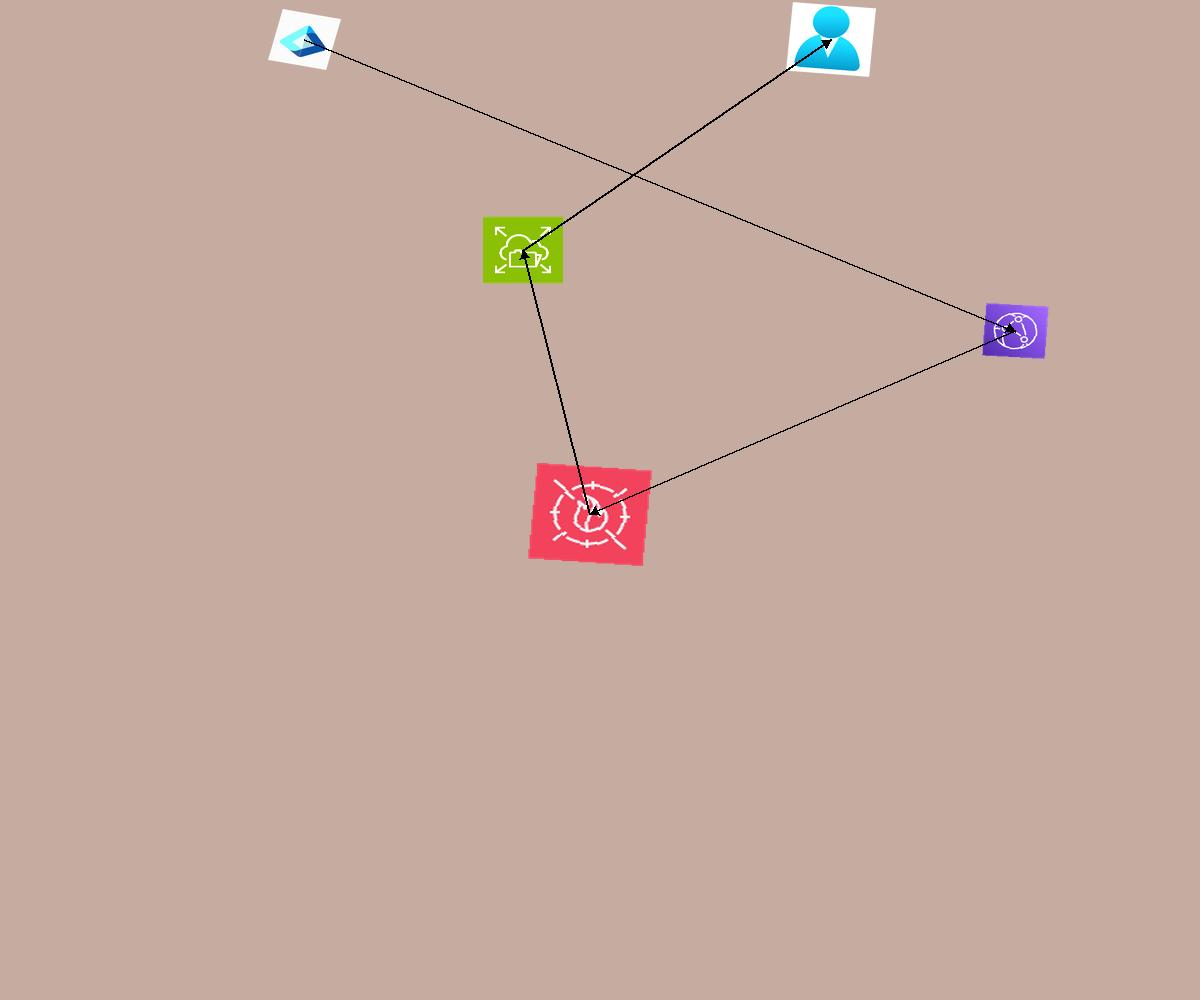AWS-CloudFront: (982, 303, 1049, 359)
AWS-EFS: (482, 216, 564, 284)
AWS-WAF: (527, 462, 653, 567)
Azure_microsoft_entra: (268, 9, 341, 70)
Azure_users: (786, 2, 876, 77)
